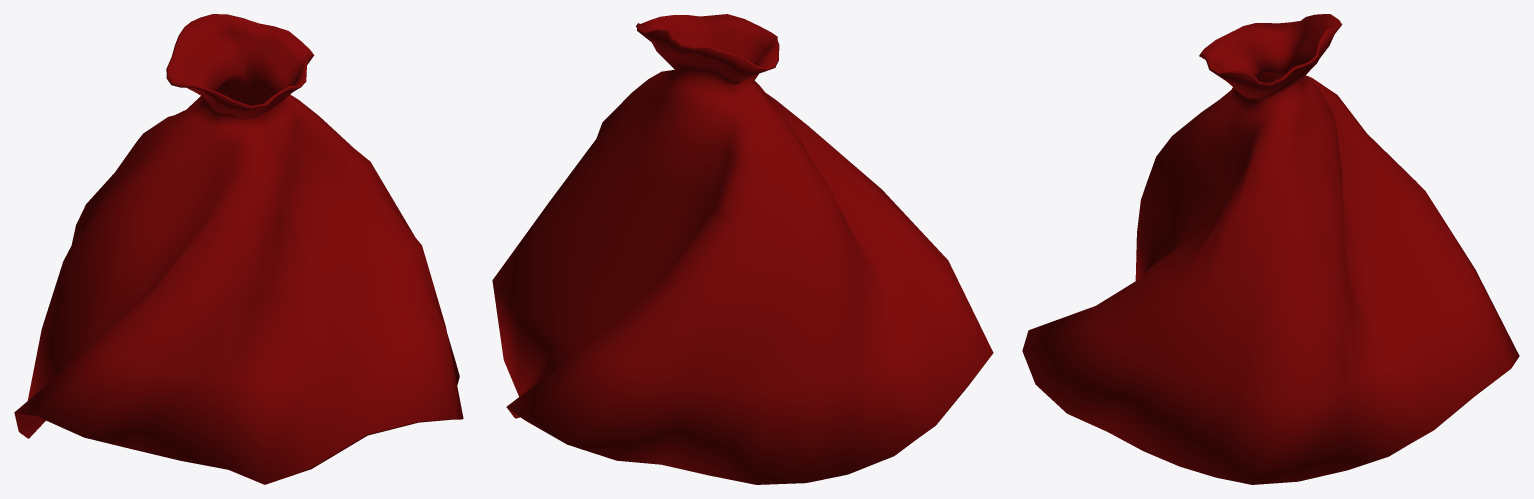
The model's file is hornet_cloak.obj.
3 renders of one model, left to right at view 1: azimuth 30°, elevation 25°; view 2: azimuth 150°, elevation 25°; view 3: azimuth 270°, elevation 25°, orthographic. The views are drawn at different scales.
Parts seen in each view (by area): view 1: CLOAK; view 2: CLOAK; view 3: CLOAK.
Boxes of the visible parts, x1=… form: CLOAK: x1=14, y1=14, x2=463, y2=484; CLOAK: x1=492, y1=14, x2=993, y2=484; CLOAK: x1=1022, y1=14, x2=1519, y2=484.
Size of the model in its own units: 5.82 by 4.75 by 5.7.
